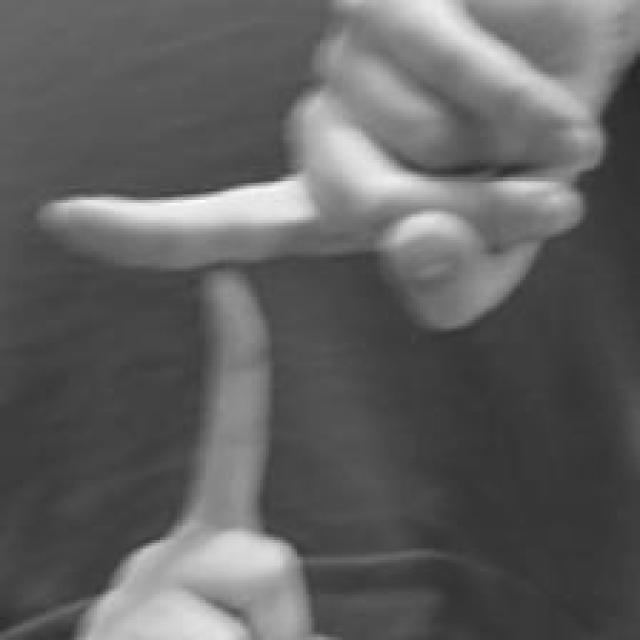T: (39, 0, 631, 640)
